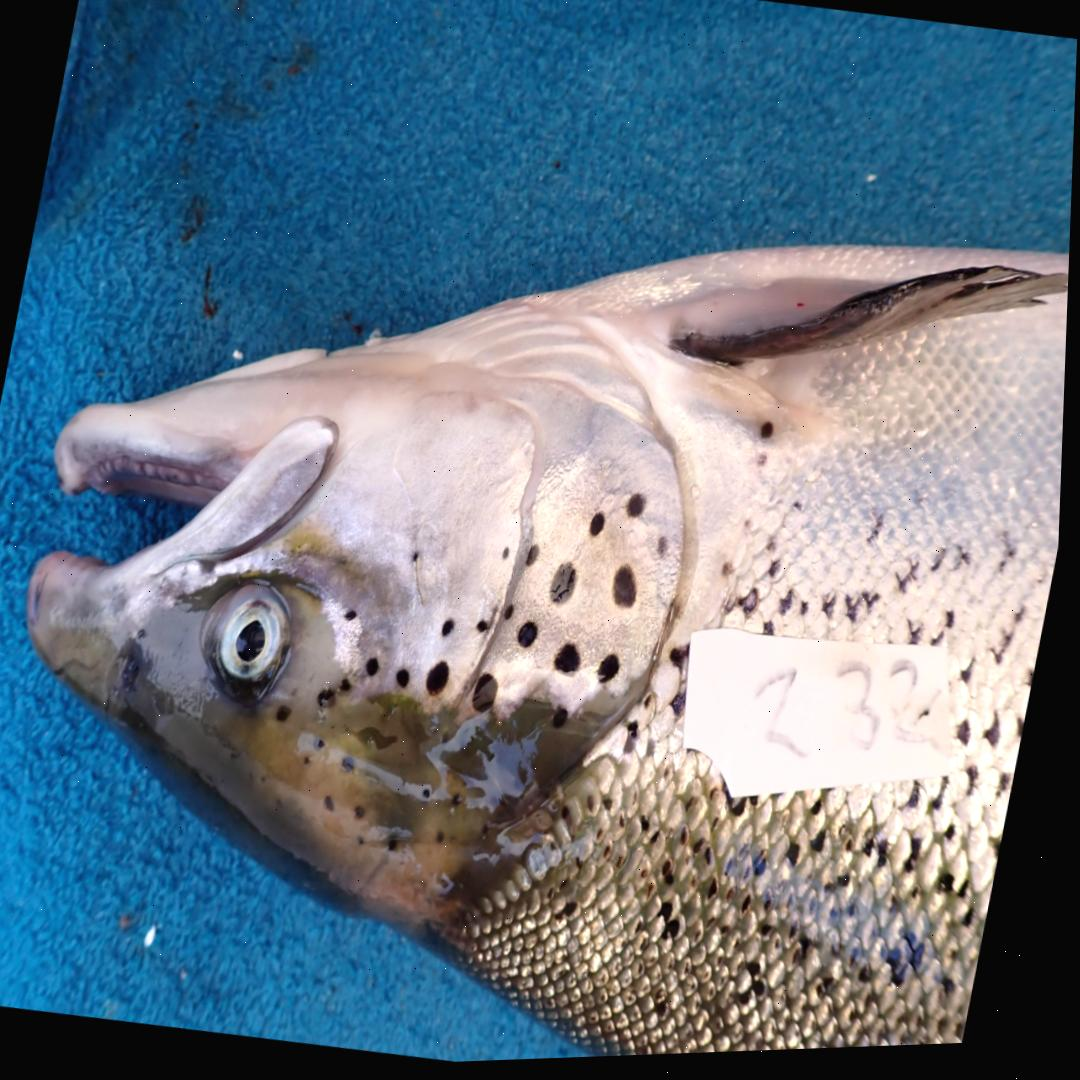spot: (554, 567, 581, 608), (477, 677, 504, 717), (617, 569, 641, 613), (559, 647, 586, 679), (430, 665, 455, 699), (603, 658, 625, 687), (521, 624, 542, 653), (630, 498, 649, 521), (593, 516, 609, 542), (557, 713, 574, 733), (529, 549, 544, 569), (370, 659, 384, 679), (401, 672, 415, 690), (446, 622, 459, 640), (661, 541, 671, 562), (344, 680, 356, 695), (508, 607, 518, 624), (482, 624, 493, 636), (350, 612, 361, 624), (506, 551, 514, 563), (416, 554, 423, 566)
